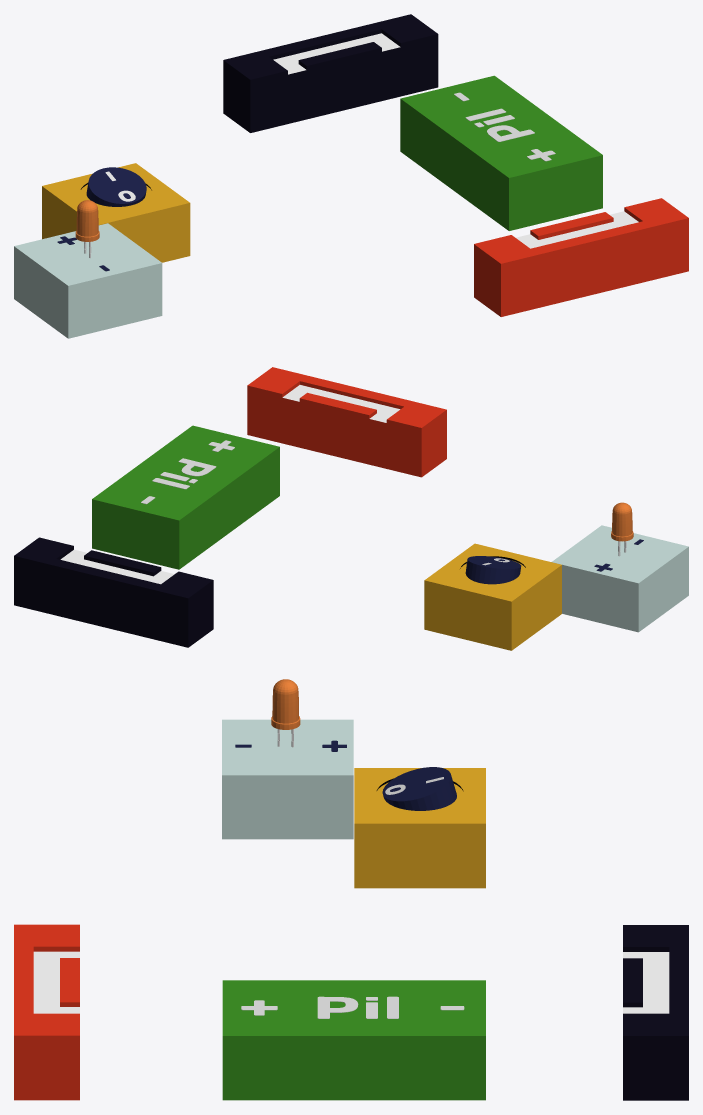
The model's file is model-1765131711910-anim.glb.
3 views of the same model, one above another, from view 1: azimuth 30°, elevation 25°; view 2: azimuth 150°, elevation 25°; view 3: azimuth 270°, elevation 25° (orthographic). The views are drawn at different scales.
Visible parts, largest first — view 1: Pil.001, Seri--, Seri++, Led.004, Button.003, ONOFF, PilText.001, LedOFF; view 2: Pil.001, Seri++, Seri--, Led.004, Button.003, ONOFF, PilText.001, LedOFF; view 3: Pil.001, Led.004, Button.003, Seri++, Seri--, ONOFF, PilText.001, LedOFF.
Part boxes in pixels (x1,y1,x2,y2): Pil.001: [400, 75, 602, 230]; Seri--: [223, 14, 438, 132]; Seri++: [474, 198, 688, 316]; Led.004: [14, 223, 162, 338]; Button.003: [42, 163, 190, 262]; ONOFF: [86, 167, 146, 206]; PilText.001: [454, 92, 555, 161]; LedOFF: [75, 200, 99, 258]; Pil.001: [92, 425, 279, 569]; Seri++: [247, 367, 446, 477]; Seri--: [14, 537, 213, 647]; Led.004: [551, 525, 688, 632]; Button.003: [424, 543, 561, 650]; ONOFF: [465, 556, 521, 584]; PilText.001: [141, 440, 234, 504]; LedOFF: [611, 502, 633, 556]; Pil.001: [222, 980, 485, 1100]; Led.004: [222, 719, 353, 839]; Button.003: [354, 768, 485, 888]; Seri++: [14, 924, 79, 1100]; Seri--: [623, 925, 688, 1100]; ONOFF: [382, 767, 456, 810]; PilText.001: [241, 996, 464, 1018]; LedOFF: [271, 679, 300, 747].
Bounding box in the file's own units: 1.42 × 0.273 × 1.28.
